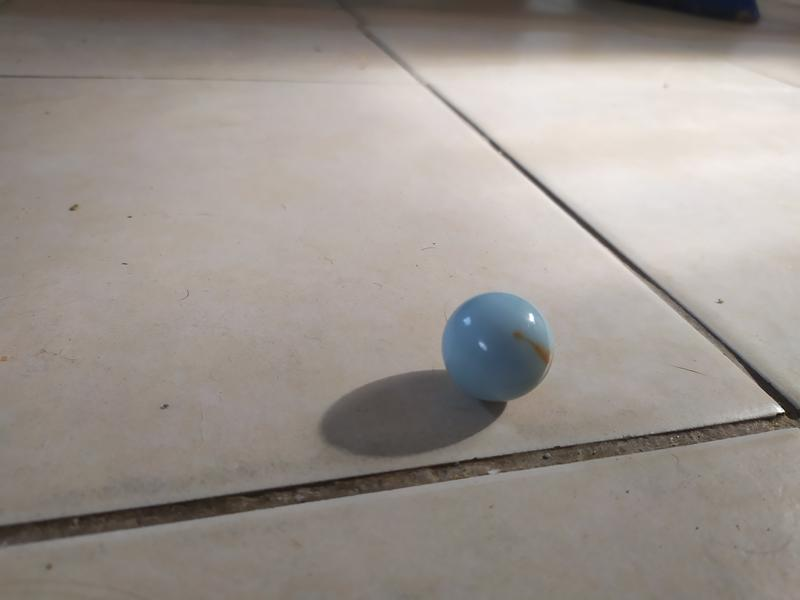Warning: (438, 285, 559, 408)
